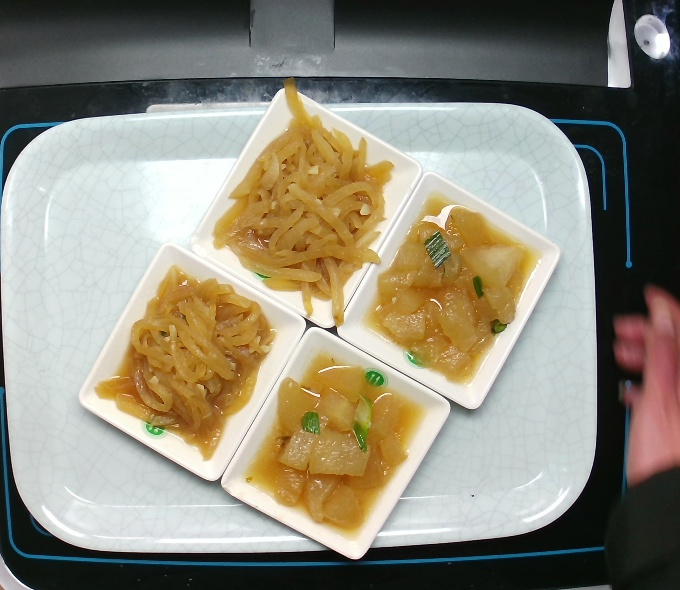wcq-DongGua: (232, 342, 431, 548), (357, 186, 548, 391)
wcq-LuoBoSi: (206, 71, 398, 331), (91, 261, 283, 466)
